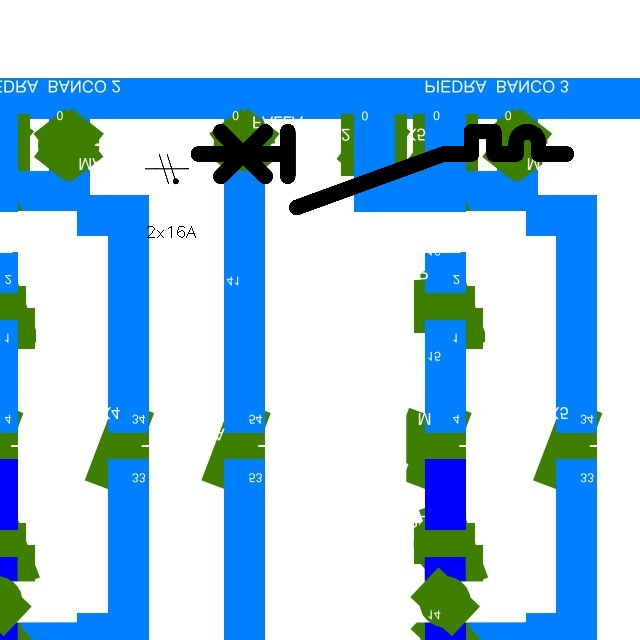interruptor_termomagnetico: (188, 122, 575, 216)
